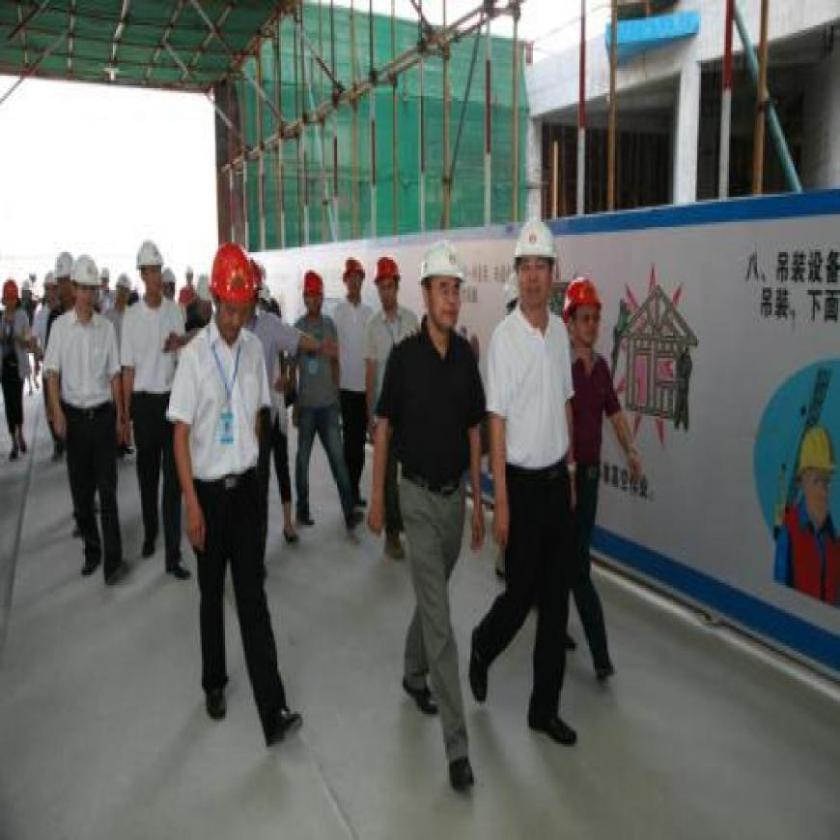Con_casco: (510, 217, 562, 320), (422, 240, 470, 348), (208, 245, 257, 347), (562, 268, 605, 362), (63, 246, 107, 322), (130, 233, 165, 307)
